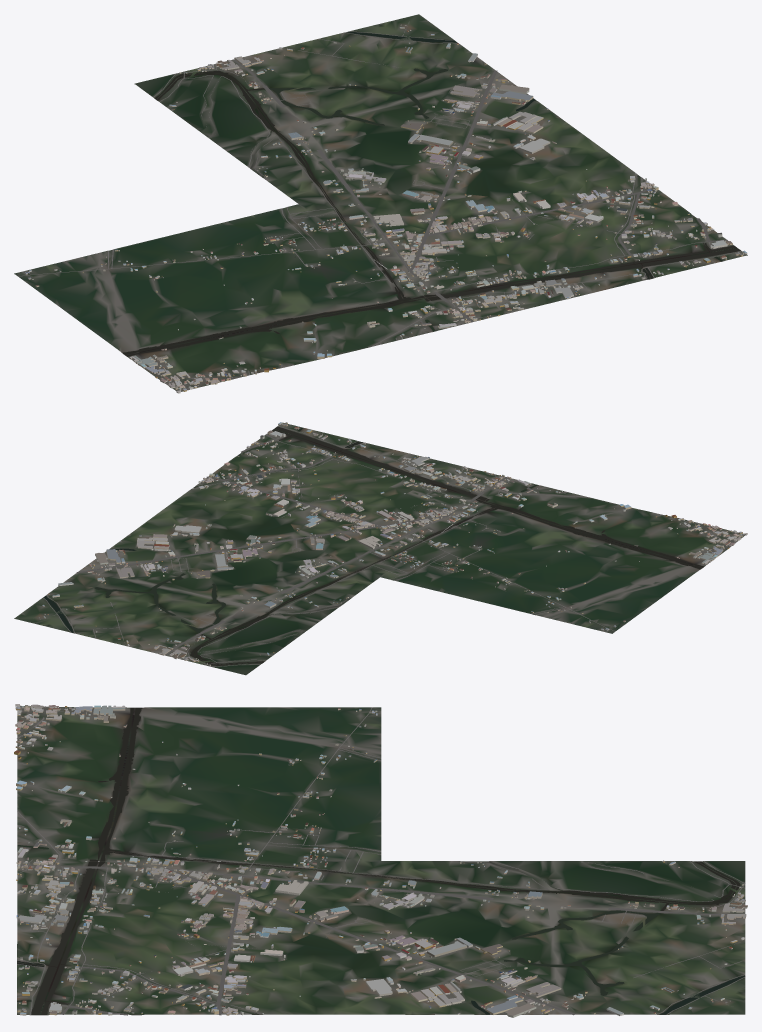
3 renders of one model, top to bottom at view 1: azimuth 30°, elevation 25°; view 2: azimuth 150°, elevation 25°; view 3: azimuth 270°, elevation 25°, orthographic. The views are drawn at different scales.
Visible parts, largest first — view 1: ground, buildings, water, roads; view 2: ground, buildings, water, roads; view 3: ground, buildings, water, roads.
Part boxes in pixels (<box>): ground: <box>14,14,747,391</box>; buildings: <box>24,24,747,393</box>; water: <box>123,31,740,356</box>; roads: <box>18,21,740,390</box>; ground: <box>14,422,744,675</box>; buildings: <box>38,422,747,665</box>; water: <box>43,426,704,665</box>; roads: <box>43,426,744,666</box>; ground: <box>17,706,745,1015</box>; buildings: <box>14,704,747,1017</box>; water: <box>17,707,744,1014</box>; roads: <box>17,705,745,1015</box>.
Bounding box in the file's own units: 2831 × 19.7 × 2824.
